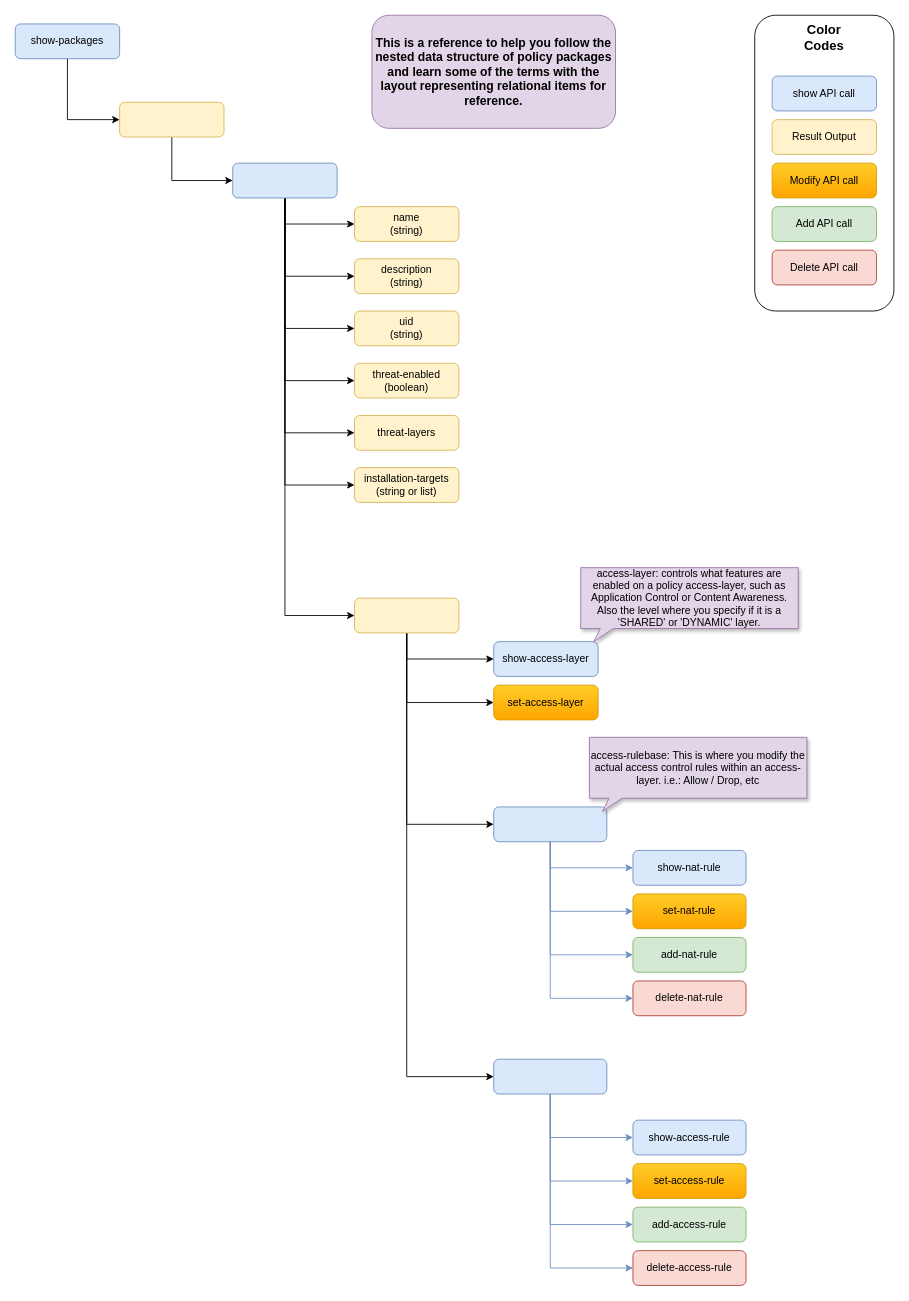
Some shapes in this 909 by 1301 pixel diagram are drawn without their labels. Each missing label, with the centre of its shape:
access-layers (list): [406,615]
packages (list): [171,119]
show-access-rulebase: [550,1076]
show-nat-rulebase: [550,824]
show-package: [284,180]
